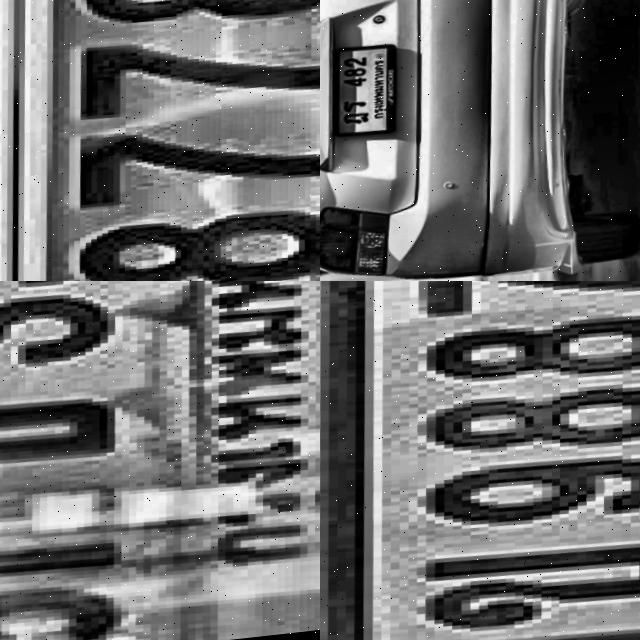license-plate: (0, 281, 320, 640), (320, 281, 640, 640), (0, 0, 320, 281), (320, 46, 404, 146)
